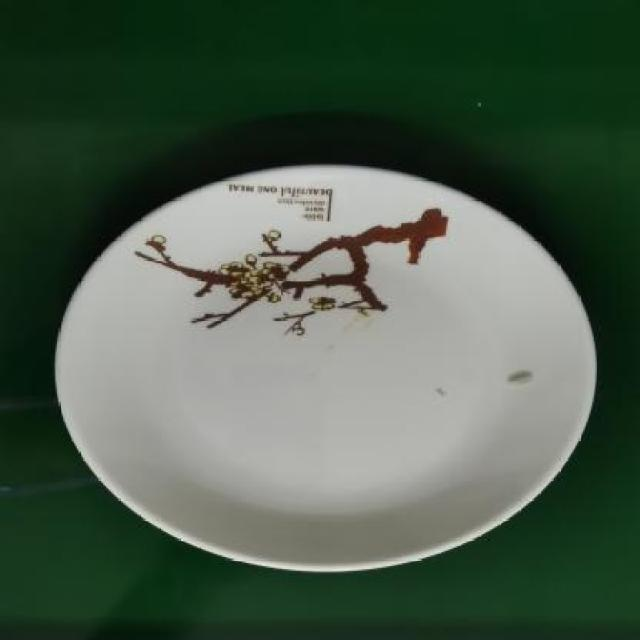plate: (34, 143, 623, 589)
